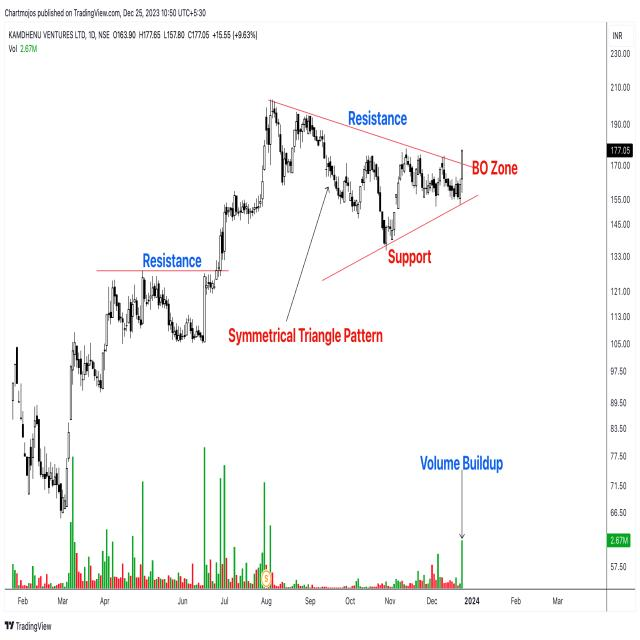Triangle: (215, 87, 500, 325)
